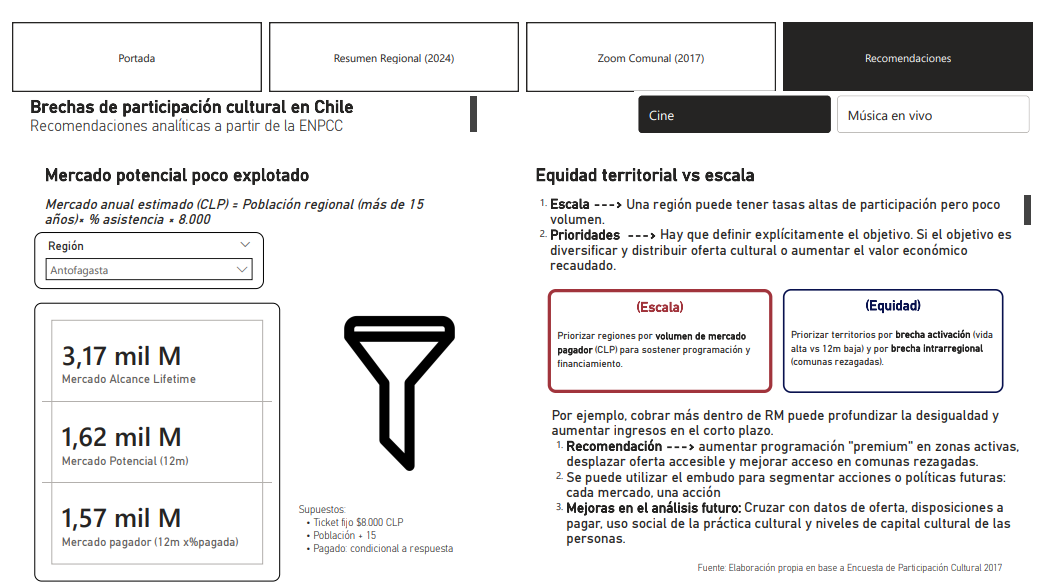

The page's visual inventory and layout, read from the dashboard file:
{"tool":"powerbi","page":{"name":"Recomendaciones","canvas":[1280,720],"ordinal":3},"visuals":[{"type":"pageNavigator","box":[0,32.4,1259.7,85.1],"z":0},{"type":"textbox","box":[35,240,500,50],"z":1000},{"type":"textbox","box":[16.7,118.3,561.7,55],"z":2000},{"type":"textbox","box":[35,201.7,453.3,38.3],"z":3000},{"type":"textbox","box":[640,201.7,483.3,38.3],"z":4000},{"type":"cardVisual","fields":{"Data":["Tabla_Medidas.MercadoPotencial_Vida_CLP","Tabla_Medidas.MercadoPotencial_12m_CLP","Tabla_Medidas.MercadoPagador_12m_CLP"]},"box":[26.7,376.7,303.3,343.3],"z":5000},{"type":"slicer","fields":{"Values":["DimPoblacion.Región"]},"box":[26.7,290,283.3,70],"z":6000},{"type":"advancedSlicerVisual","fields":{"Values":["DimDisciplina.disciplina_label"]},"box":[766.7,116.7,493.3,56.7],"z":7000},{"type":"textbox","box":[640,240,620,106.7],"z":8000},{"type":"textbox","box":[840,688.3,396.7,31.7],"z":9000},{"type":"image","box":[348.3,380,258.3,216.7],"z":10000},{"type":"textbox","box":[348.3,616.7,291.7,86.7],"z":11000},{"type":"textbox","box":[660,360,276.7,128.3],"z":12000},{"type":"textbox","box":[950,360,271.7,128.3],"z":13000},{"type":"textbox","box":[660,500,600,188.3],"z":13001}]}

Visuals, with their boxes in screenshot pixels (x1, y1, x2, y2), scaled from the page's 1280x720 canvas onto the 1054x588 screenshot:
pageNavigator: x1=0, y1=26, x2=1037, y2=96
textbox: x1=29, y1=196, x2=441, y2=237
textbox: x1=14, y1=97, x2=476, y2=142
textbox: x1=29, y1=165, x2=402, y2=196
textbox: x1=527, y1=165, x2=925, y2=196
cardVisual - Tabla_Medidas.MercadoPotencial_Vida_CLP x Tabla_Medidas.MercadoPotencial_12m_CLP: x1=22, y1=308, x2=272, y2=587
slicer - DimPoblacion.Región: x1=22, y1=237, x2=255, y2=294
advancedSlicerVisual - DimDisciplina.disciplina_label: x1=631, y1=95, x2=1038, y2=142
textbox: x1=527, y1=196, x2=1038, y2=283
textbox: x1=692, y1=562, x2=1018, y2=587
image: x1=287, y1=310, x2=499, y2=487
textbox: x1=287, y1=504, x2=527, y2=574
textbox: x1=543, y1=294, x2=771, y2=399
textbox: x1=782, y1=294, x2=1006, y2=399
textbox: x1=543, y1=408, x2=1038, y2=562
